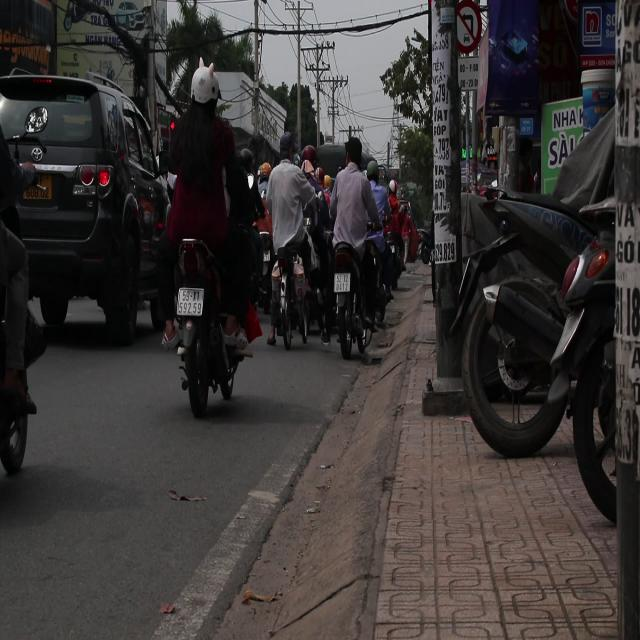car: (0, 75, 169, 343)
motorbike: (166, 237, 249, 413), (258, 197, 323, 370), (241, 196, 306, 330), (329, 212, 377, 369)
